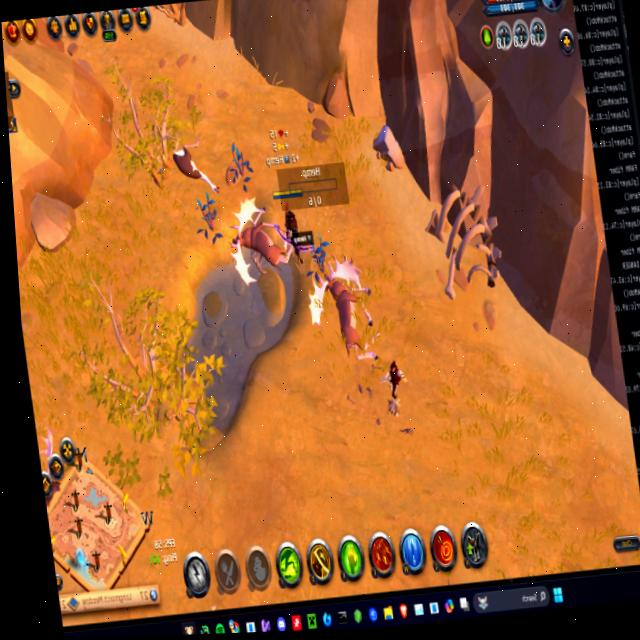mob: (303, 251, 381, 368), (223, 191, 300, 292), (165, 127, 222, 202)
ore: (376, 356, 414, 420)
red: (270, 185, 313, 267)
